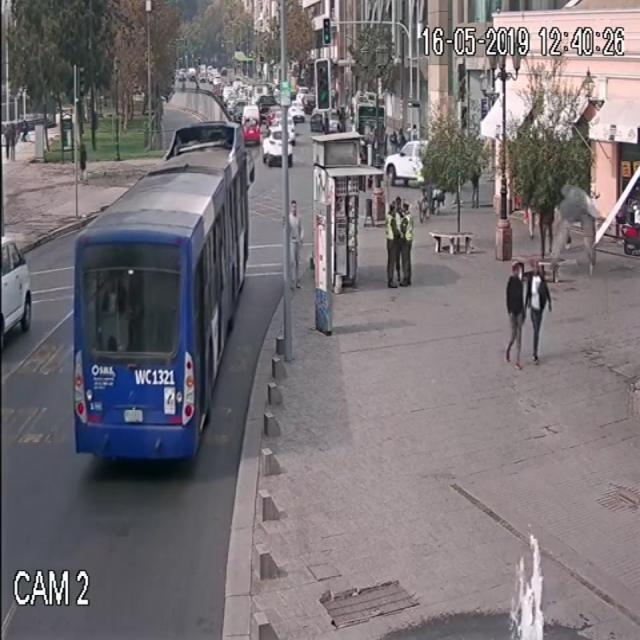AB: (64, 111, 258, 473)
